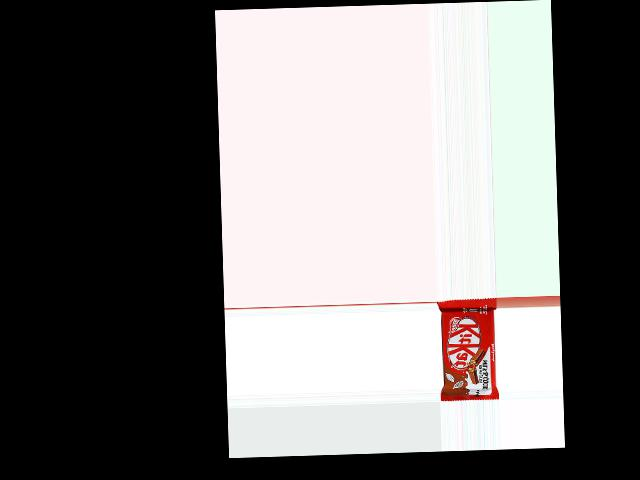chocolate: (437, 298, 499, 402)
